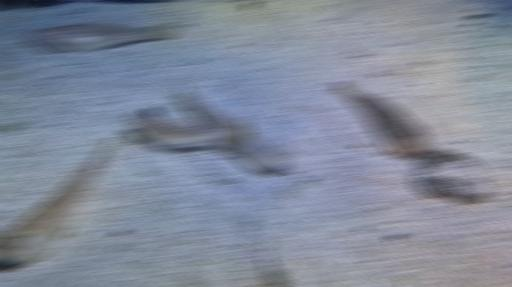Fish: (0, 136, 117, 265), (334, 81, 431, 158), (127, 107, 250, 148), (26, 22, 175, 53), (222, 128, 290, 171)
